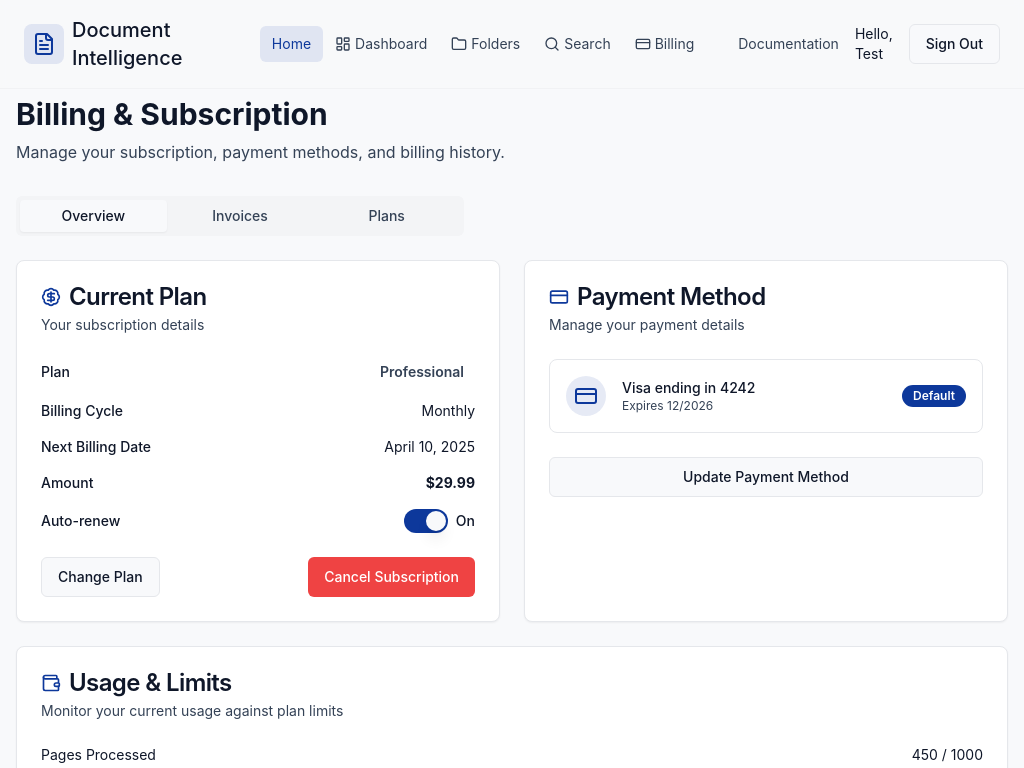
Test case: Billing Component › switches to plans tab when clicked
The width and height of the screenshot is (1024, 768).
Note: Click on the Plans tab
Click the tab "Plans": (387, 216) [313, 200, 460, 232]
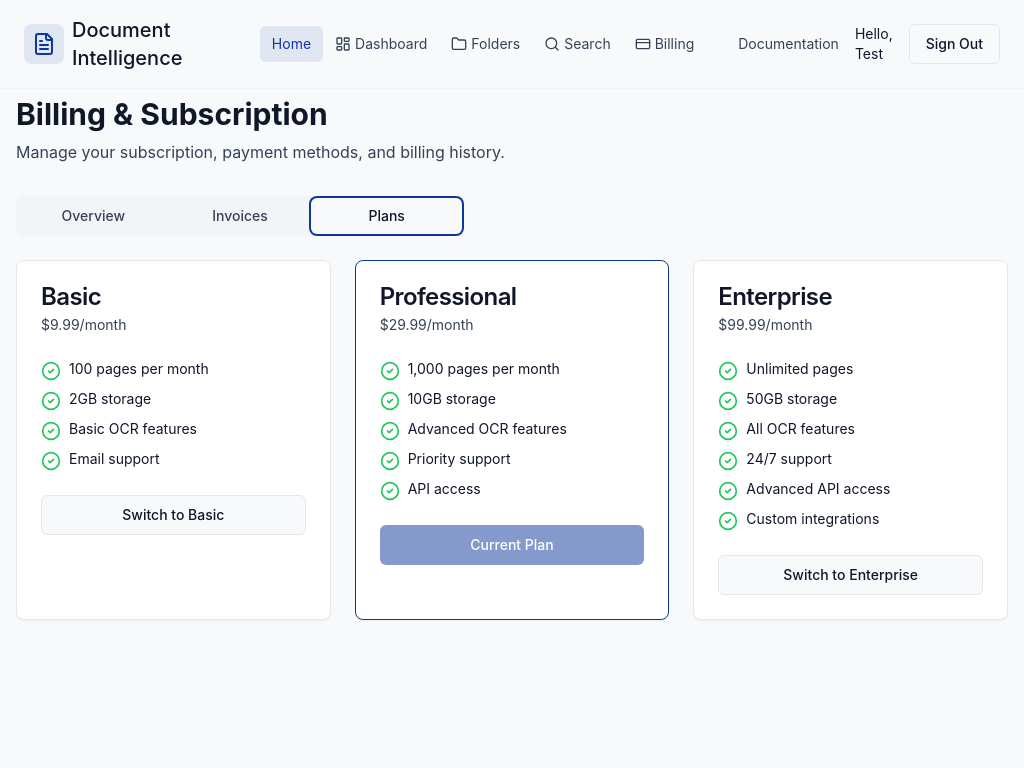
Expected: the heading "Basic" is shown, [41, 282, 101, 311]
Expected: the heading "Professional" is shown, [380, 282, 517, 311]
Expected: the heading "Enterprise" is shown, [718, 282, 832, 311]
